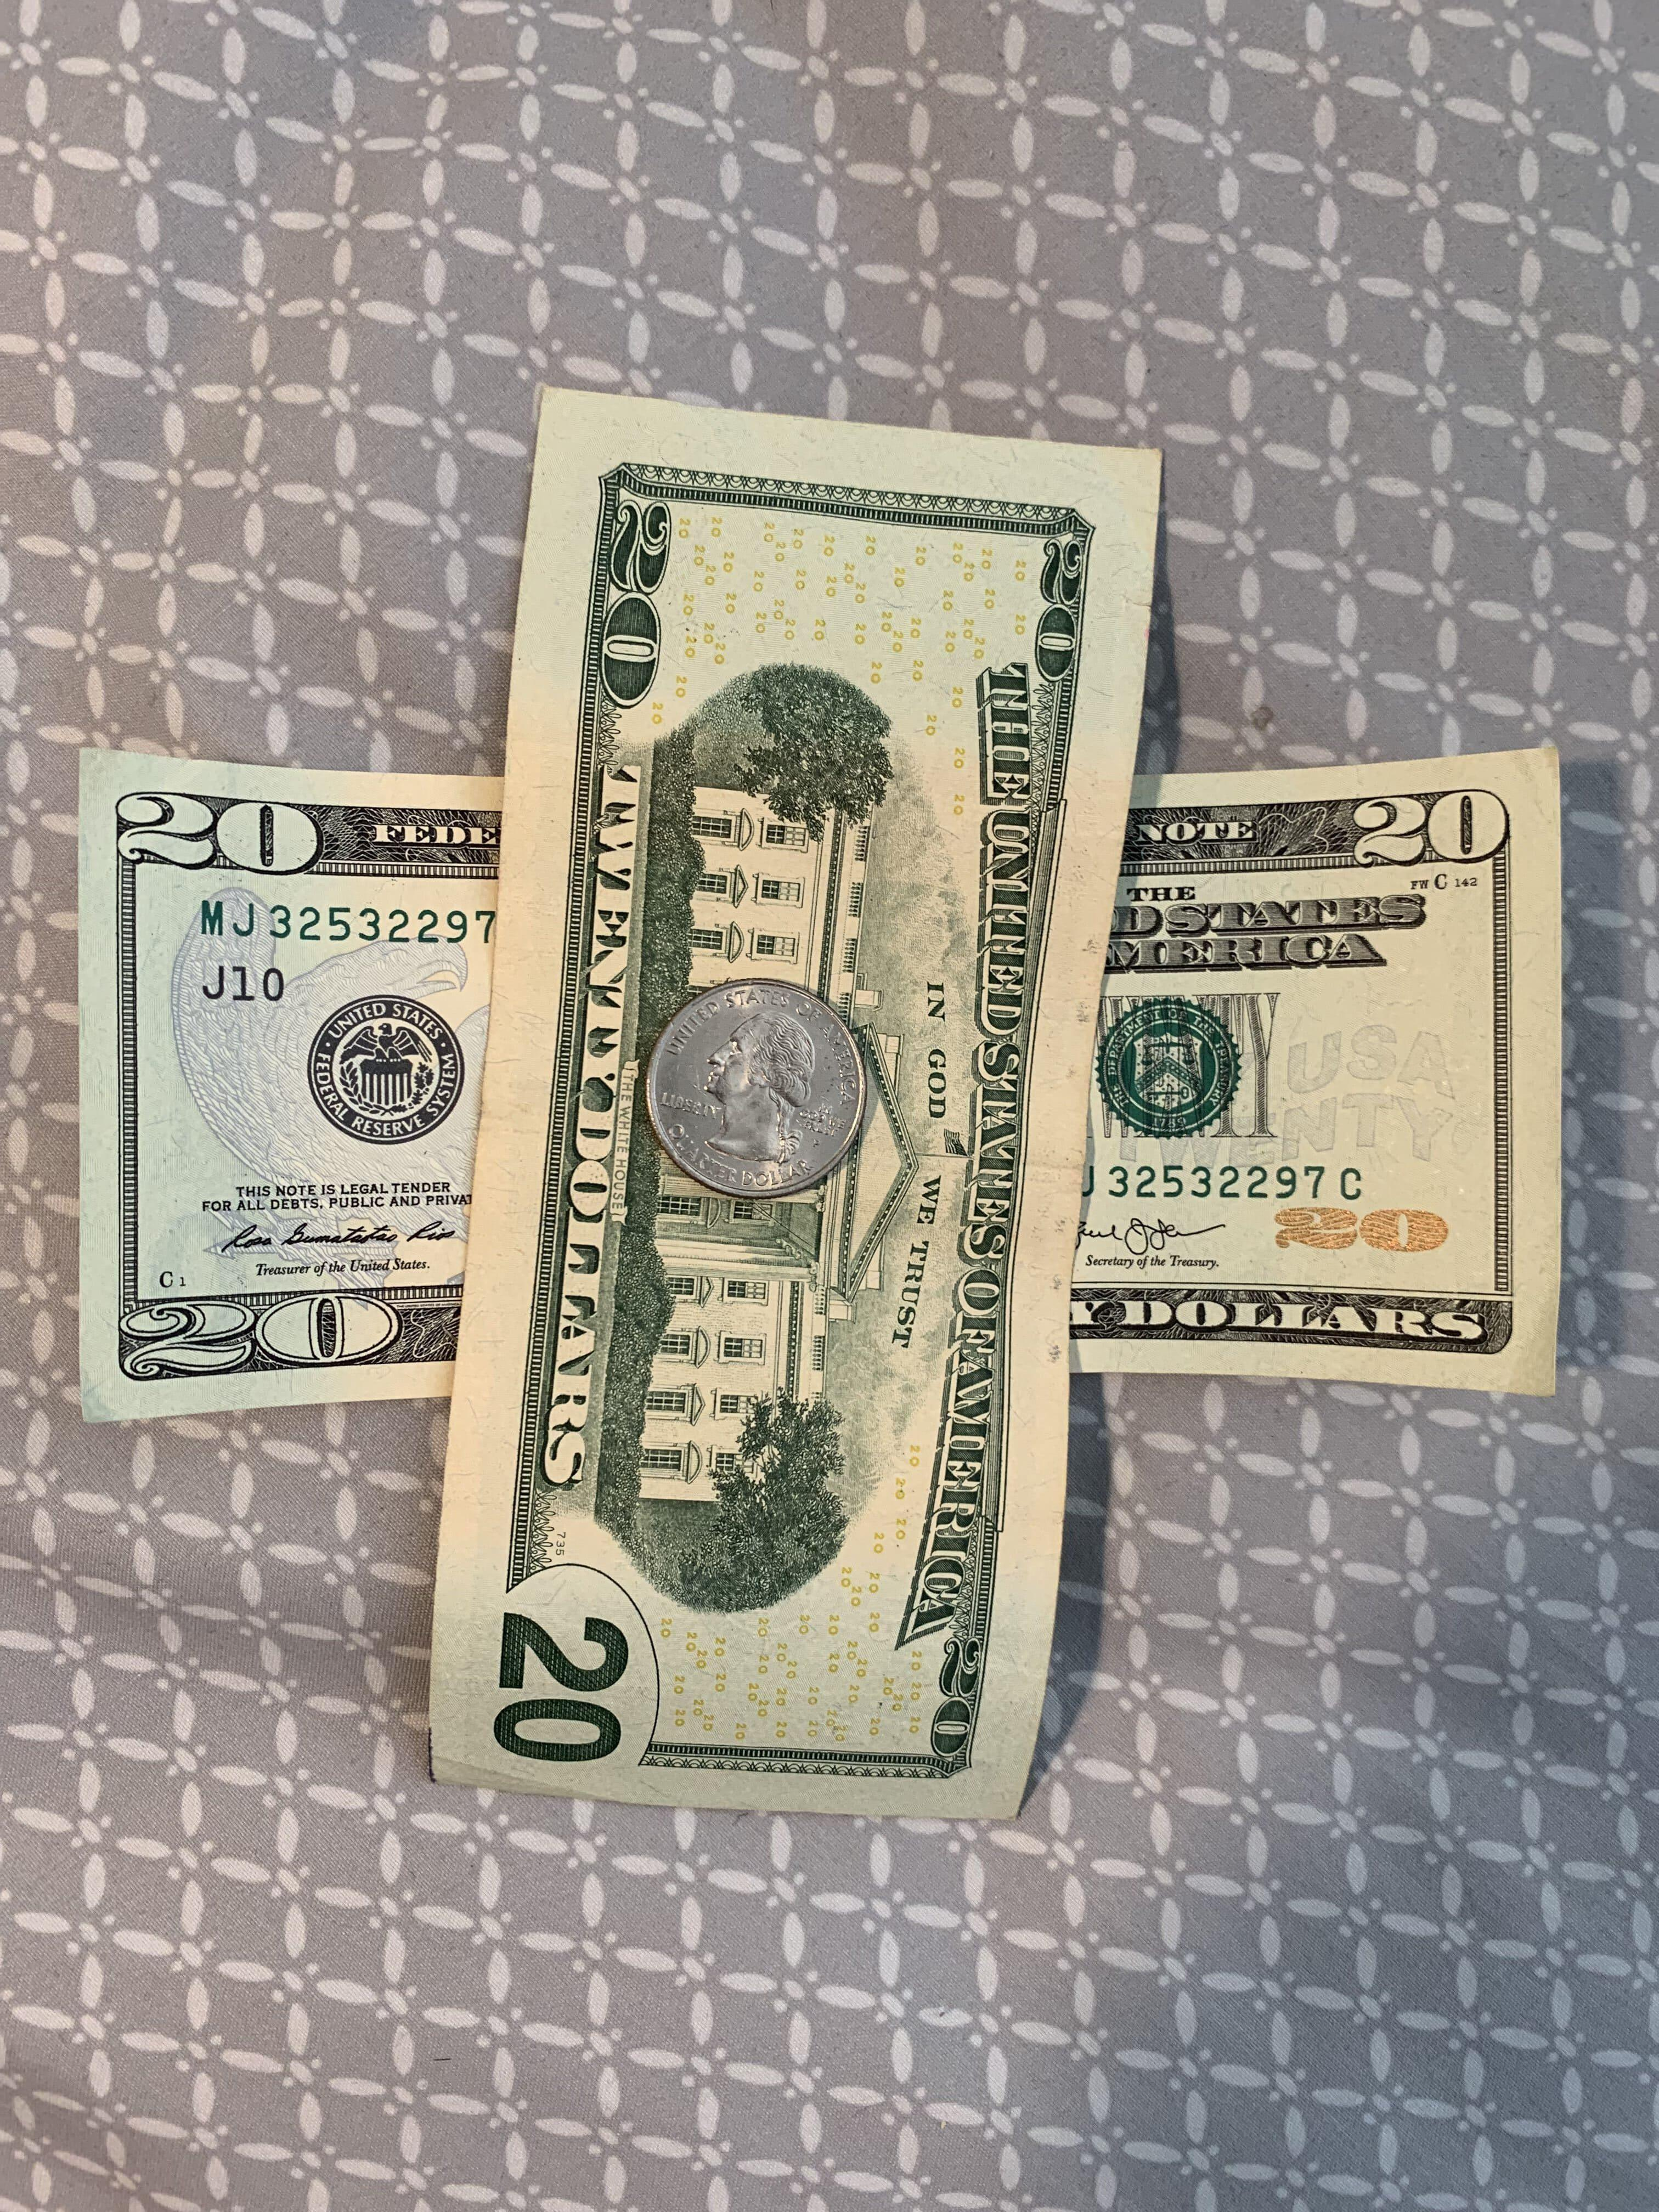Quarter: (617, 958, 903, 1230)
TwentyBill: (380, 366, 1232, 1858), (52, 688, 1614, 1465)
